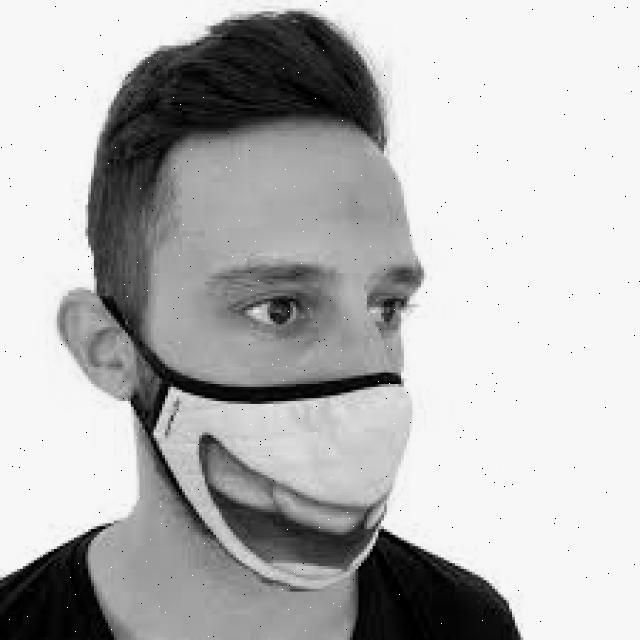fake: (78, 320, 478, 596)
real: (145, 122, 425, 605)
